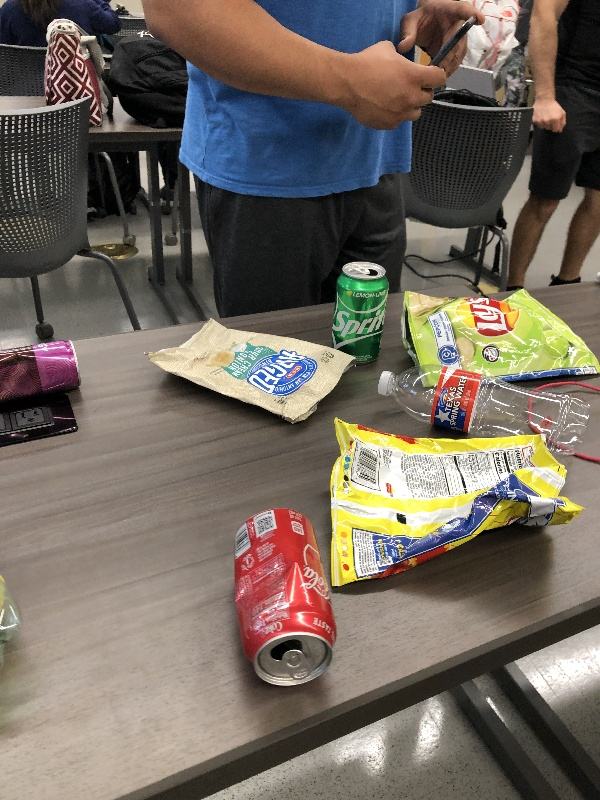bag: (320, 410, 588, 603), (143, 311, 360, 430), (397, 283, 600, 387)
bottle: (370, 364, 591, 455), (1, 571, 20, 650)
can: (226, 505, 343, 691), (325, 256, 391, 368), (1, 337, 86, 409)
